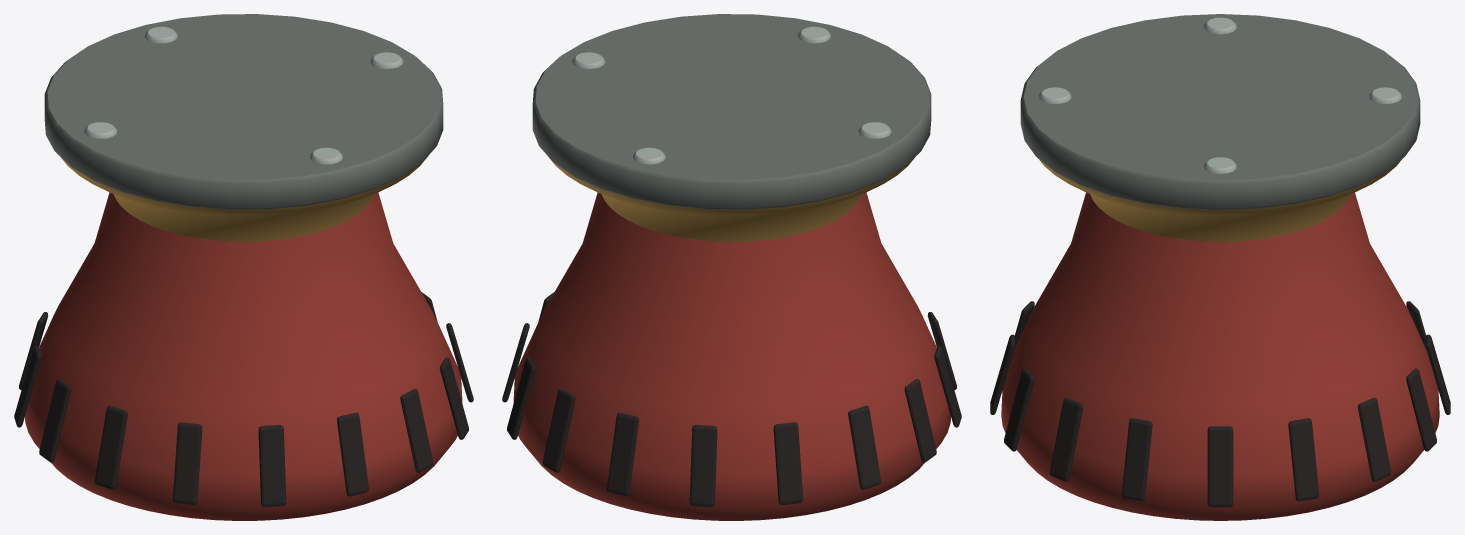
Rendered from CeilingSiren.fbx.
3 views of the same model, side by side, from view 1: azimuth 30°, elevation 25°; view 2: azimuth 150°, elevation 25°; view 3: azimuth 270°, elevation 25° (orthographic).
Visible parts, largest first — view 1: Vented red bell housing, Ceiling rosette, Upper collar, Recessed vent.011, Recessed vent.010, Recessed vent.012, Recessed vent.009, Recessed vent.013, Recessed vent.008, Recessed vent.014, Recessed vent.007, Recessed vent.015; view 2: Vented red bell housing, Ceiling rosette, Upper collar, Recessed vent.005, Recessed vent.006, Recessed vent.004, Recessed vent.007, Recessed vent.003, Recessed vent.008, Recessed vent.002, Recessed vent.009, Recessed vent.001; view 3: Vented red bell housing, Ceiling rosette, Upper collar, Recessed vent, Recessed vent.001, Recessed vent.015, Recessed vent.002, Recessed vent.014, Recessed vent.003, Recessed vent.013, Recessed vent.004, Recessed vent.012.
Part boxes in pixels (x1,y1,x2,y2): Vented red bell housing: (25, 192, 462, 520); Ceiling rosette: (44, 14, 443, 209); Upper collar: (60, 156, 427, 241); Recessed vent.011: (258, 425, 286, 507); Recessed vent.010: (172, 422, 202, 505); Recessed vent.012: (336, 412, 368, 496); Recessed vent.009: (95, 405, 127, 489); Recessed vent.013: (400, 388, 433, 472); Recessed vent.008: (39, 379, 71, 462); Recessed vent.014: (439, 357, 468, 439); Recessed vent.007: (14, 346, 41, 427); Recessed vent.015: (446, 323, 473, 402); Vented red bell housing: (513, 192, 950, 520); Ceiling rosette: (532, 14, 931, 209); Upper collar: (548, 156, 915, 241); Recessed vent.005: (689, 425, 717, 507); Recessed vent.006: (773, 422, 803, 505); Recessed vent.004: (607, 412, 639, 496); Recessed vent.007: (848, 405, 880, 489); Recessed vent.003: (542, 388, 575, 472); Recessed vent.008: (904, 379, 936, 462); Recessed vent.002: (507, 357, 536, 439); Recessed vent.009: (934, 346, 961, 427); Recessed vent.001: (502, 323, 529, 402); Vented red bell housing: (1001, 192, 1439, 520); Ceiling rosette: (1020, 14, 1420, 210); Upper collar: (1039, 159, 1401, 241); Recessed vent: (1207, 426, 1233, 507); Recessed vent.001: (1288, 418, 1319, 501); Recessed vent.015: (1121, 418, 1152, 501); Recessed vent.002: (1357, 397, 1390, 481); Recessed vent.014: (1050, 397, 1083, 481); Recessed vent.003: (1406, 368, 1436, 451); Recessed vent.013: (1004, 368, 1034, 451); Recessed vent.004: (1425, 334, 1450, 414); Recessed vent.012: (990, 334, 1015, 414).
Size of the model in its own units: 0.3067 by 0.251 by 0.3067.
